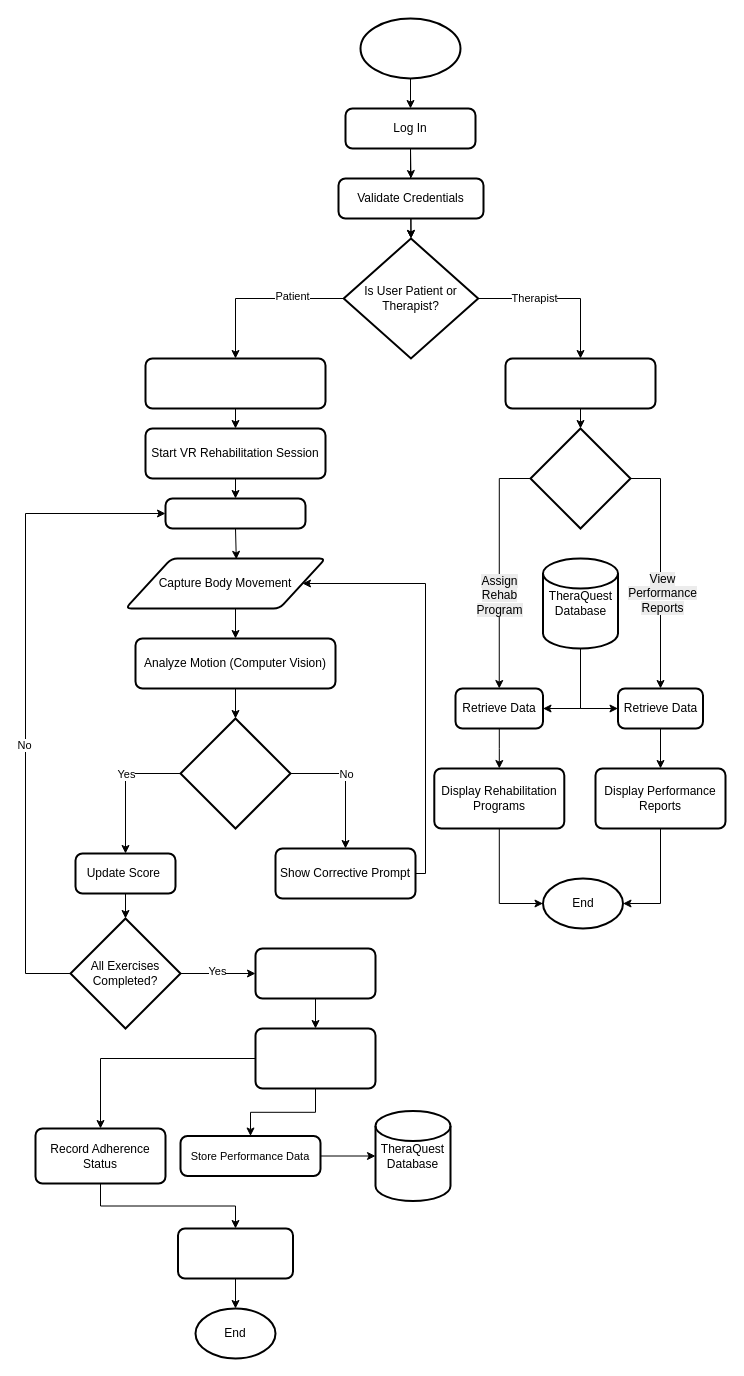
This 744x1376 diagram has some shape labels left out. The centre of each missing label's shape, as x and y in pixels:
Display Dashboard: (580,383)
Display Results: (235,1253)
Generate Performance Data: (315,1058)
Is Movement Correct?: (235,773)
Load Assigned Rehabilitation Program: (235,383)
Perform Exercise: (235,513)
Select Action?: (580,478)
Session Completed: (315,973)
Start: (410,48)
